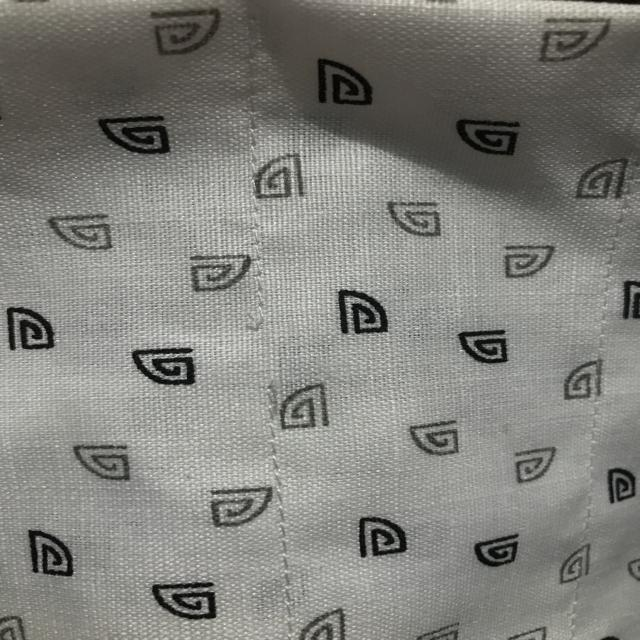broken: (235, 295, 300, 399)
